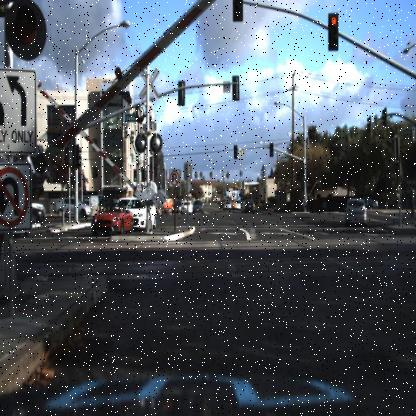car: (92, 198, 134, 234), (344, 188, 375, 235), (50, 196, 92, 222), (130, 199, 160, 230), (350, 194, 380, 212), (23, 206, 46, 225), (242, 192, 258, 219), (29, 209, 44, 230), (190, 198, 204, 216), (171, 199, 186, 215), (30, 201, 48, 214), (181, 198, 192, 219), (223, 192, 231, 216), (171, 199, 182, 214), (216, 191, 224, 210), (234, 194, 242, 213), (217, 197, 226, 213)
trafficLight: (0, 0, 68, 65), (327, 12, 338, 51), (232, 137, 242, 163), (268, 140, 275, 158)
trafficLight-Green: (298, 163, 306, 184)
trafficLight-Red: (323, 8, 344, 57)
